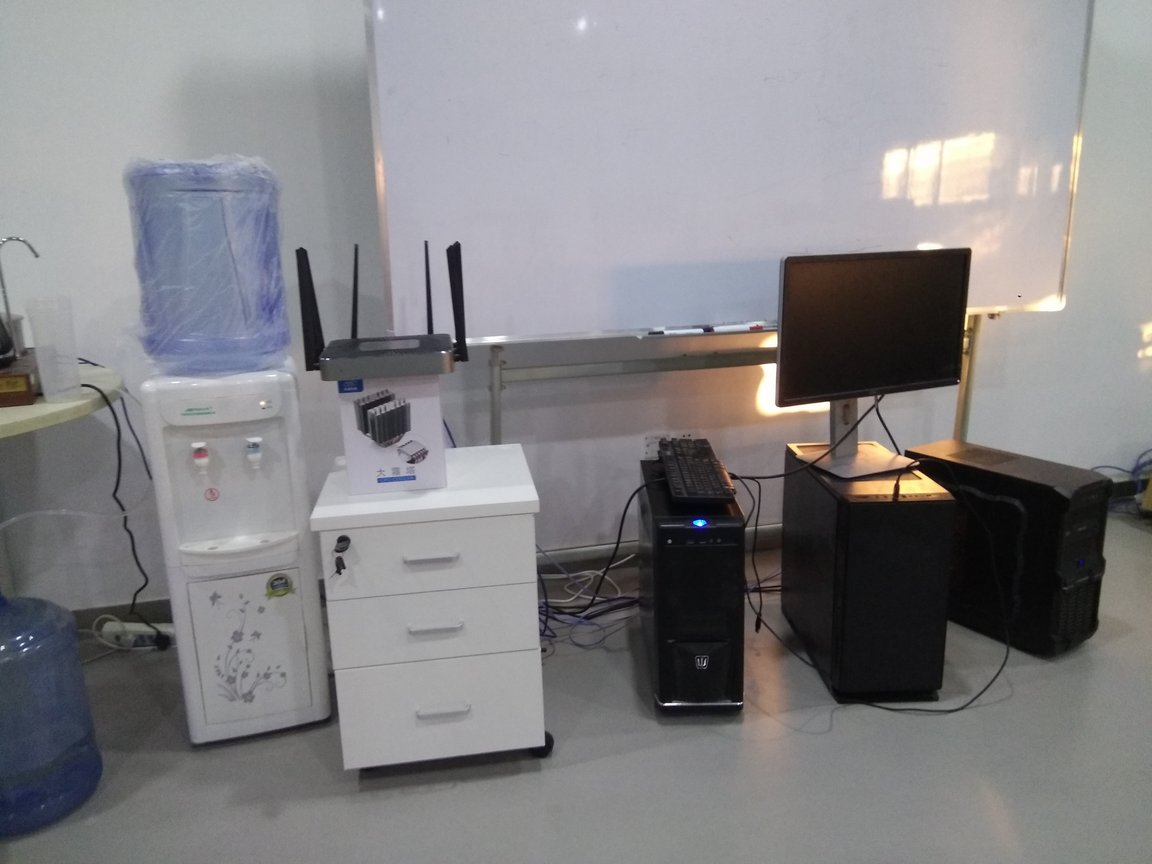computer: (903, 438, 1110, 666), (780, 434, 945, 708), (630, 455, 755, 720)
drawer chest: (302, 442, 563, 778)
monitor: (778, 248, 974, 484)
scuttlebutt: (120, 152, 297, 374), (1, 595, 107, 842)
water dispenser: (134, 353, 332, 744)
